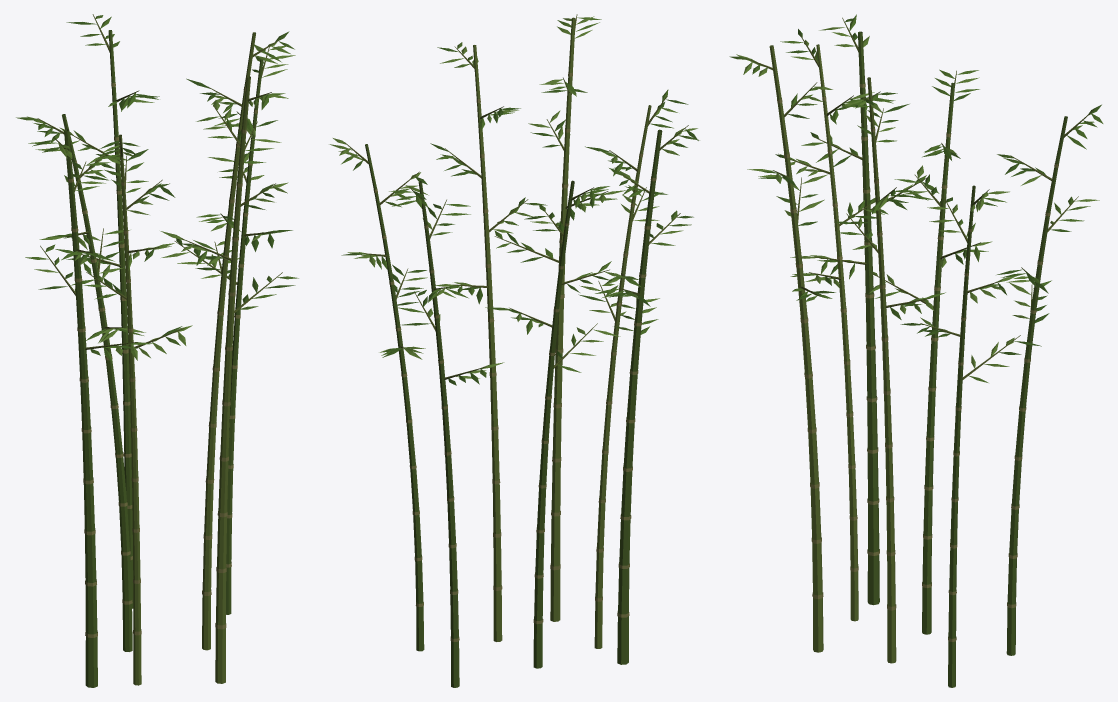
Rendered from valley-bamboo-a.obj.
The picture shows the model from 3 angles, left to right: view 1: azimuth 30°, elevation 25°; view 2: azimuth 150°, elevation 25°; view 3: azimuth 270°, elevation 25°; orthographic projection. The views are drawn at different scales.
Size of the model in its own units: 4 by 7.12 by 3.98.
